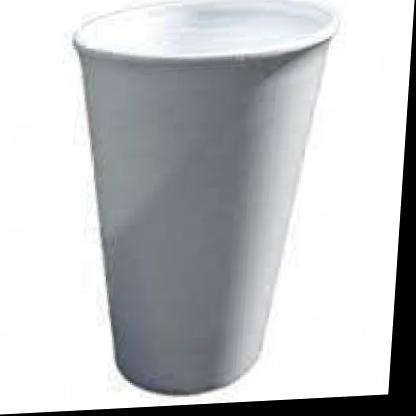Plastic: (38, 0, 362, 414)
